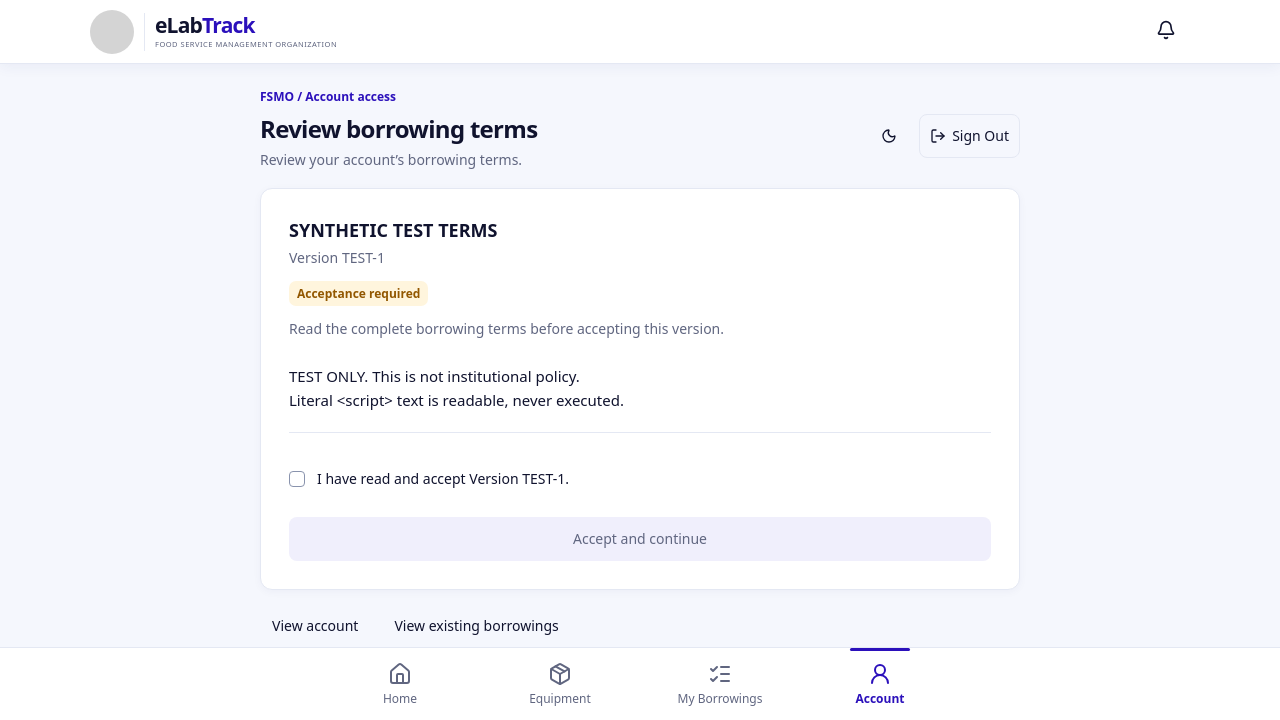
Phase 4B authoritative terms experience › clears checked consent when the server reports a different published version
The image size is (1280, 720).
Click the checkbox named "I have read and accept Version TEST-1." at (297, 479), box [289, 471, 305, 487]
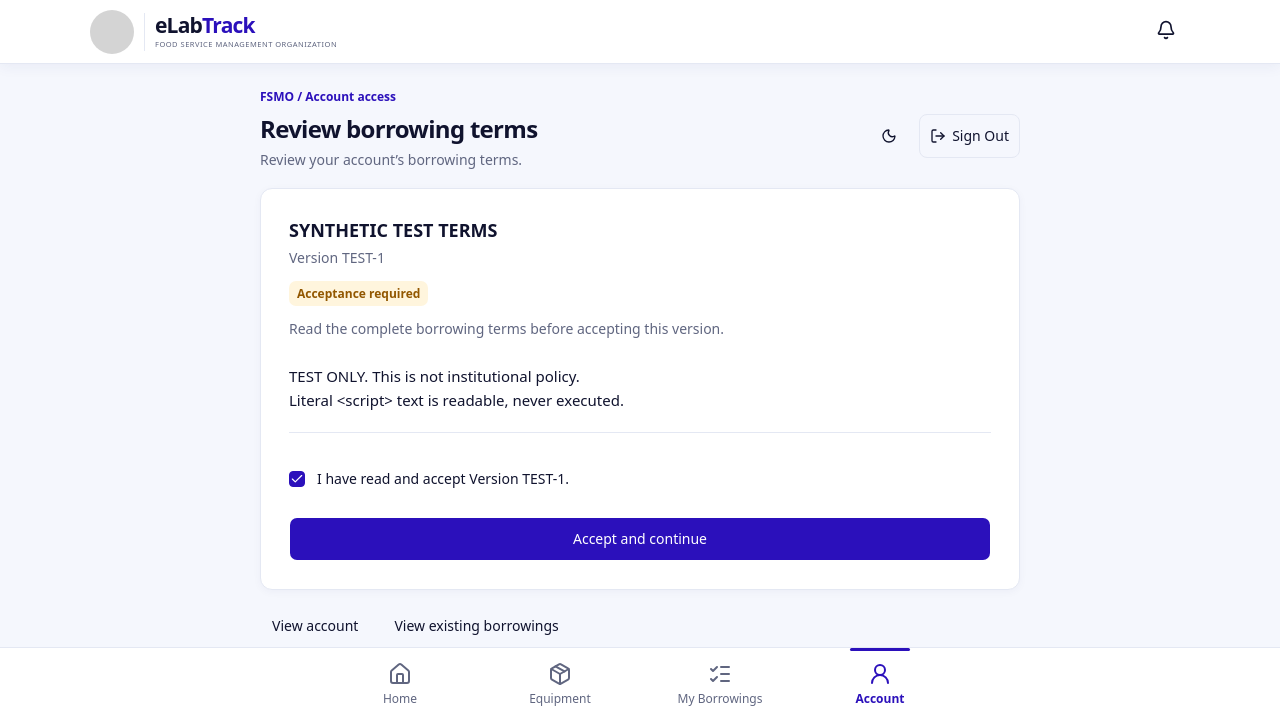
Click the button "Accept and continue" at (640, 539), box [289, 517, 991, 561]
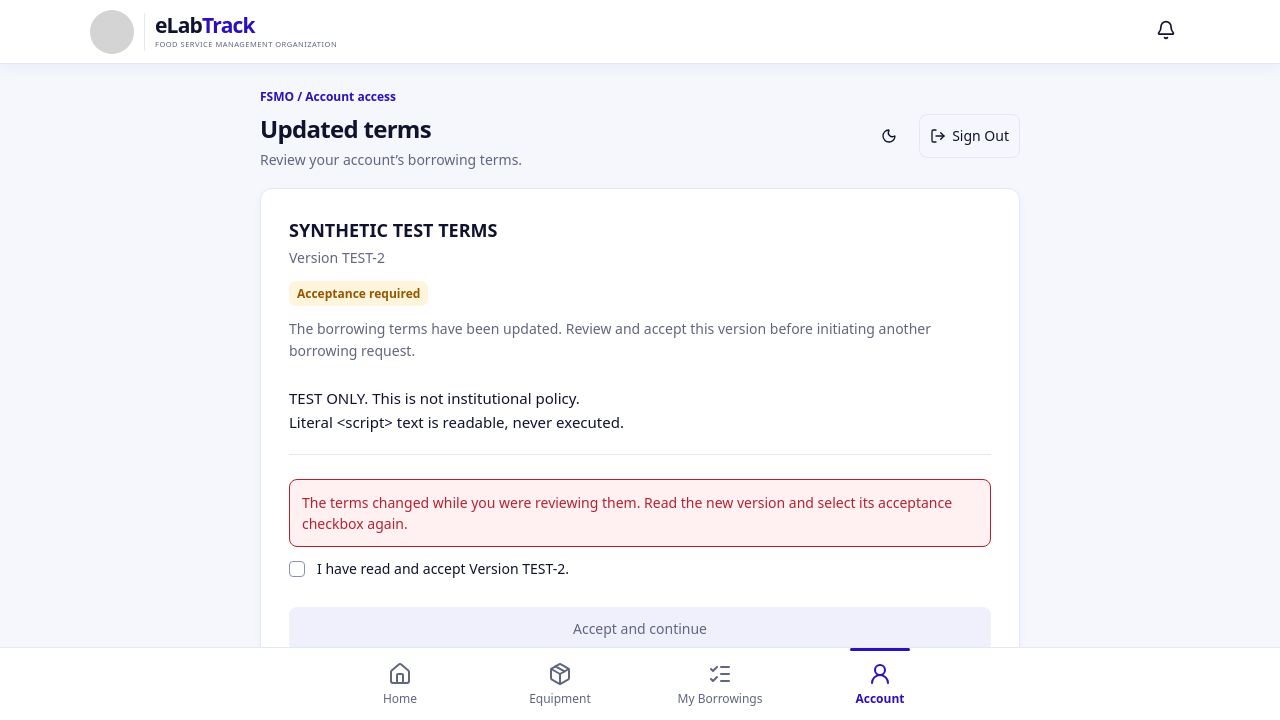
Expected: the checkbox named "I have read and accept Version TEST-2." is not checked, [289, 561, 305, 577]
Expected: the button "Accept and continue" is disabled, [289, 607, 991, 651]
Expected: the message shows "Read the new version", [302, 493, 952, 533]
